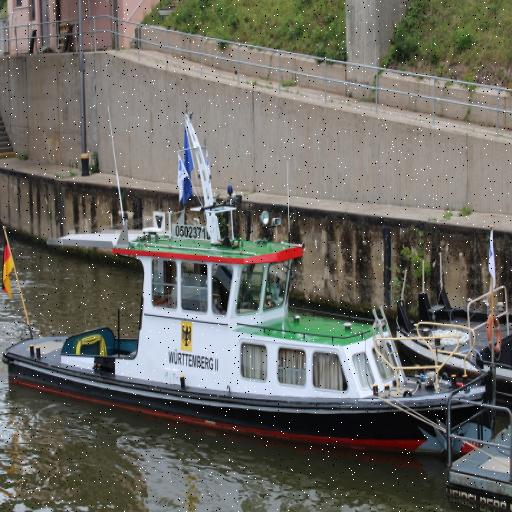tugboat: (1, 108, 512, 473)
